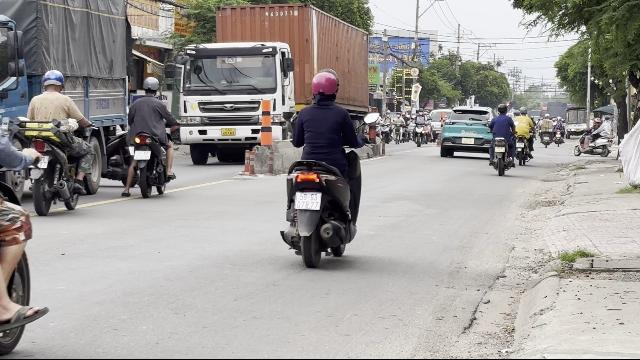helmet: (309, 70, 339, 102), (40, 70, 64, 92), (141, 76, 159, 94)
licenseplate: (296, 192, 320, 210), (134, 150, 150, 160)
motorcyclist: (276, 69, 366, 267), (17, 68, 98, 216), (122, 76, 178, 198)
